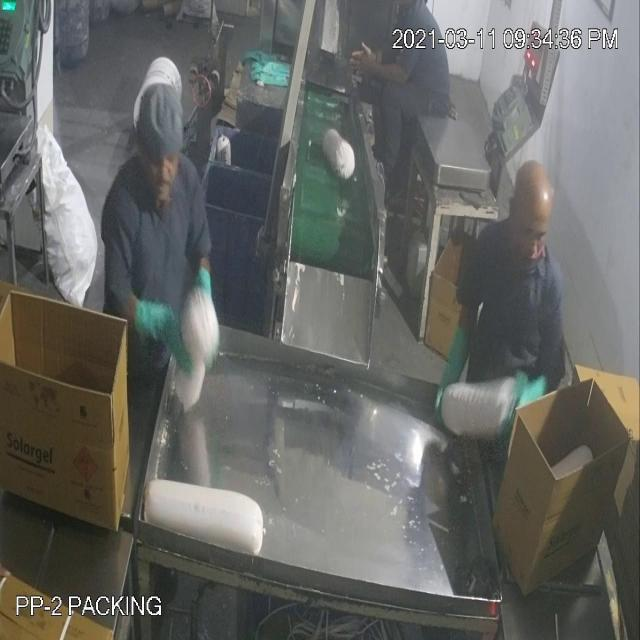No_Gloves: (343, 53, 413, 107)
